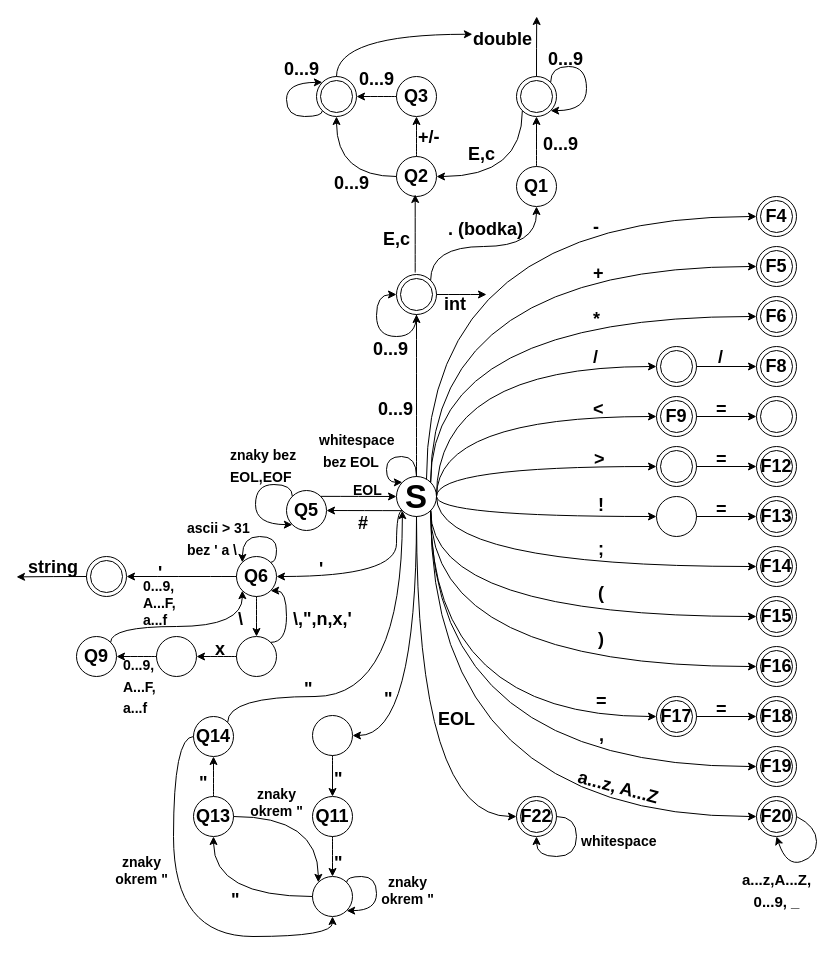
Some shapes in this 834 by 954 pixel diagram are drawn without their labels. Here are the shapes that lost their labels. From the top down, the centre of each, then its label:
[336,96]: F3
[536,96]: F2
[416,294]: F1
[676,366]: F7
[776,416]: F10
[676,466]: F11
[676,516]: Q4
[106,576]: F21
[176,656]: Q8
[256,656]: Q7
[332,735]: Q10
[332,896]: Q12
